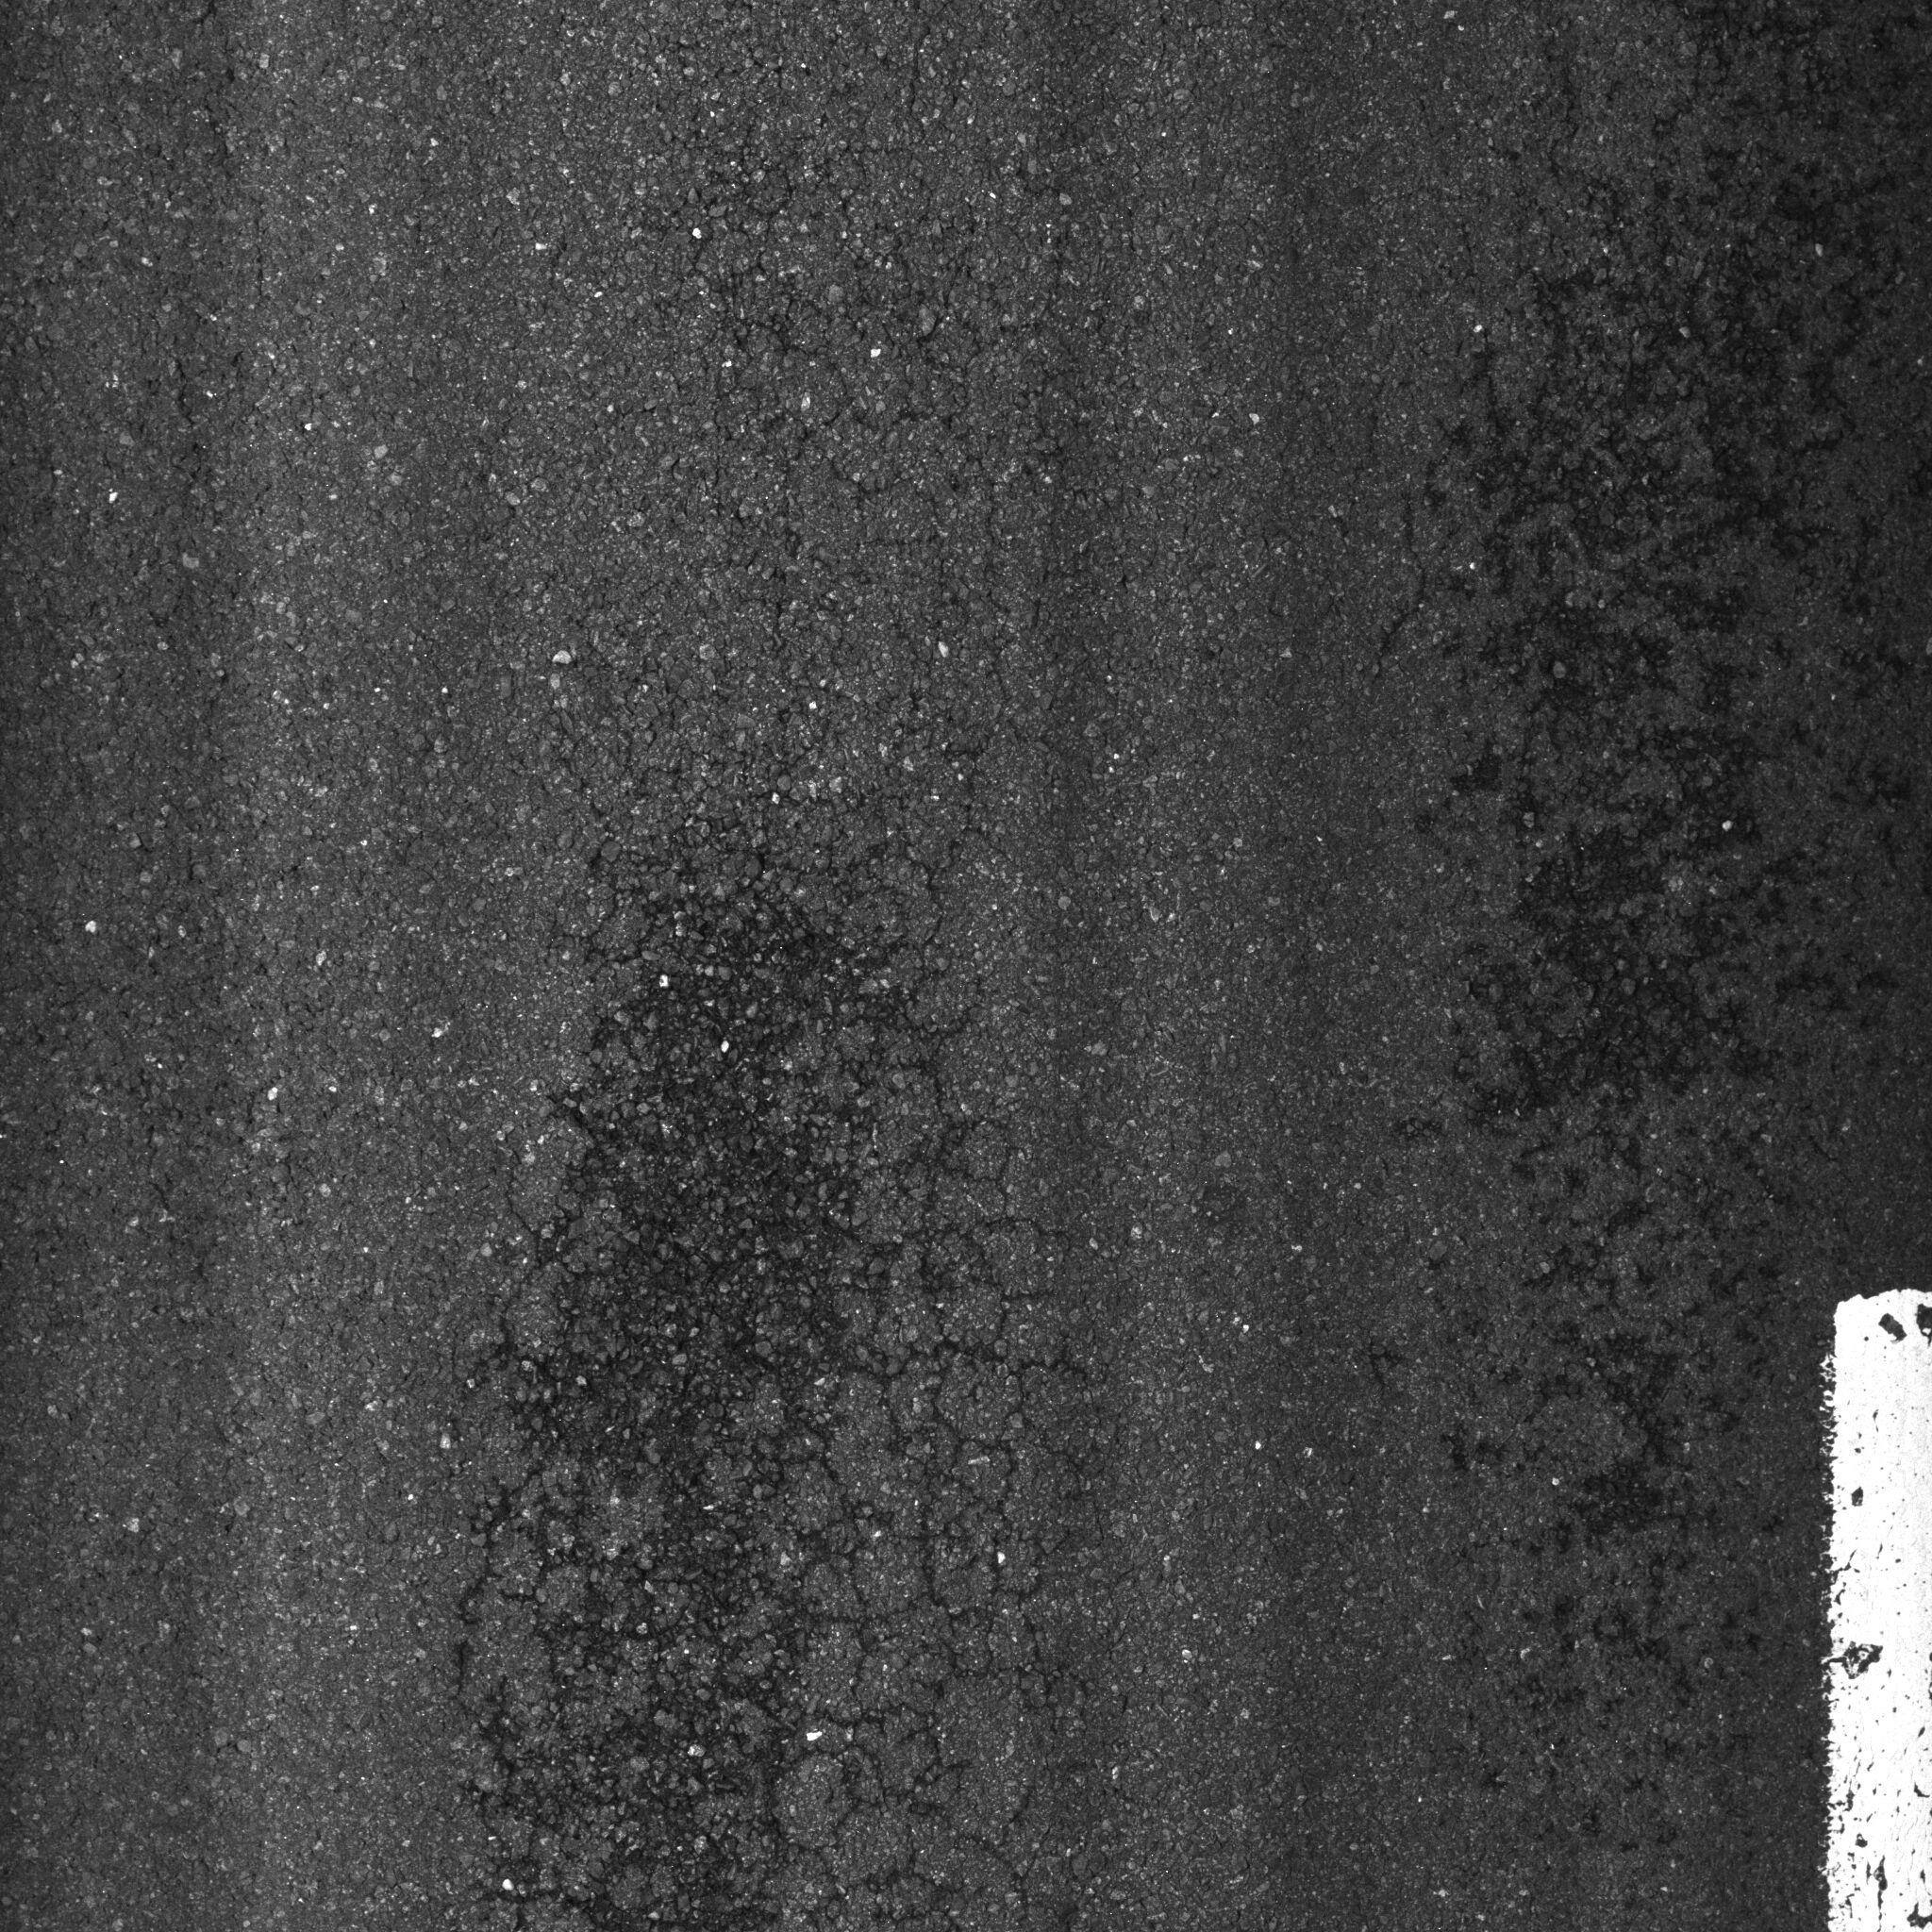alligator: (430, 239, 1095, 1925), (1401, 16, 1927, 1805)
